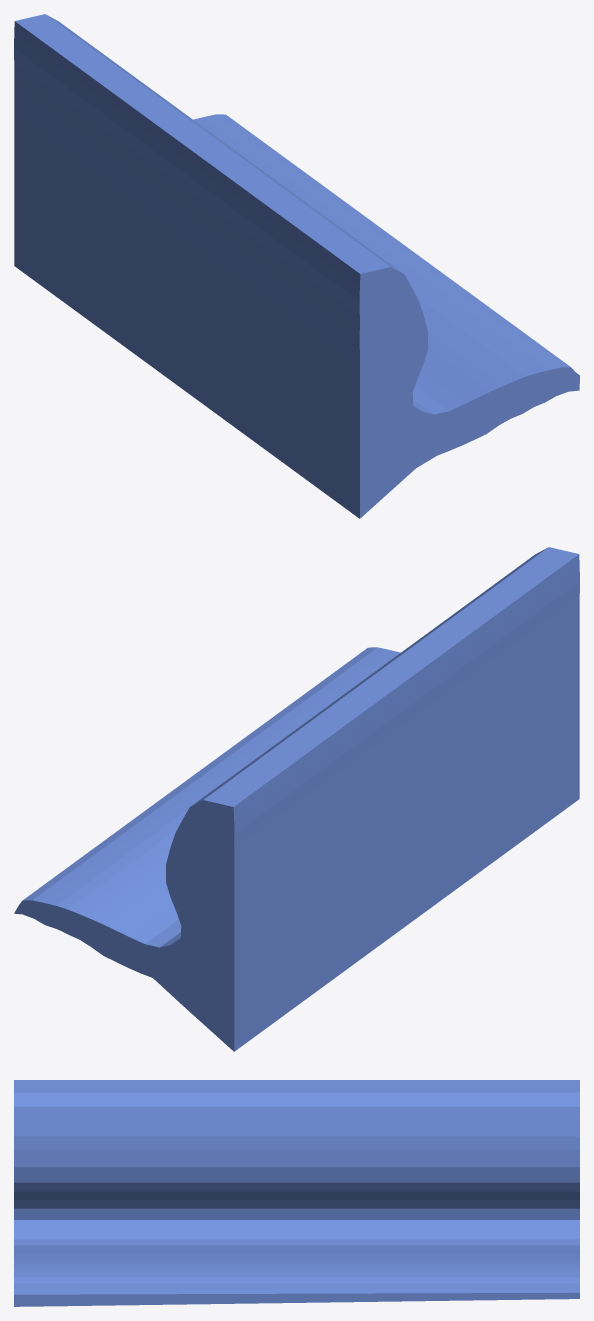
The model's file is SubwaySeat.fbx.
3 renders of one model, top to bottom at view 1: azimuth 30°, elevation 25°; view 2: azimuth 150°, elevation 25°; view 3: azimuth 270°, elevation 25°, orthographic. The views are drawn at different scales.
Parts seen in each view (by area): view 1: Cube; view 2: Cube; view 3: Cube.
Boxes of the visible parts, x1,y1,x2,y2 form: Cube: (14, 14, 579, 518); Cube: (14, 547, 579, 1051); Cube: (14, 1080, 579, 1306).
Bounding box in the file's own units: 532 × 564 × 1445.
